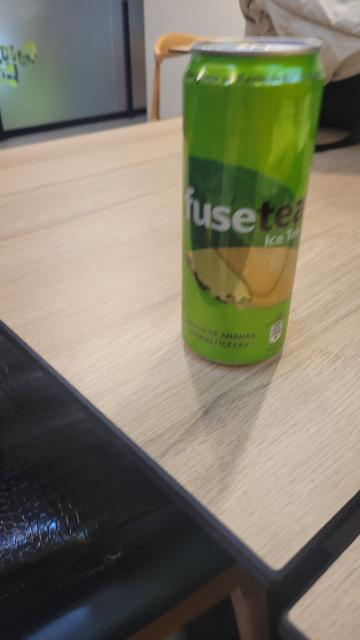Metal: (183, 39, 326, 370)
